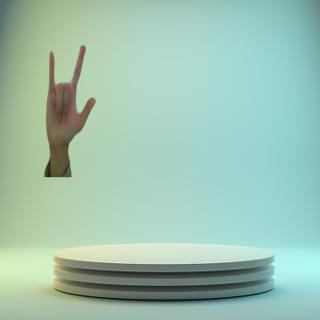ILY: (43, 43, 97, 150)
